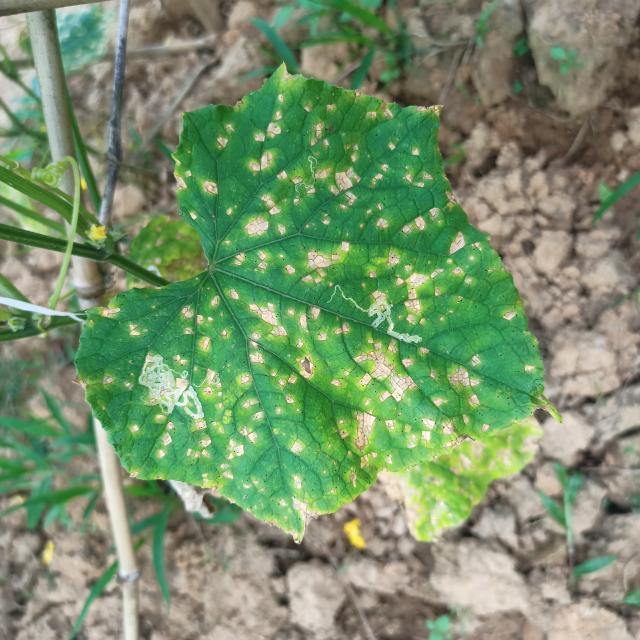disease_cucumber: (95, 82, 512, 516)
